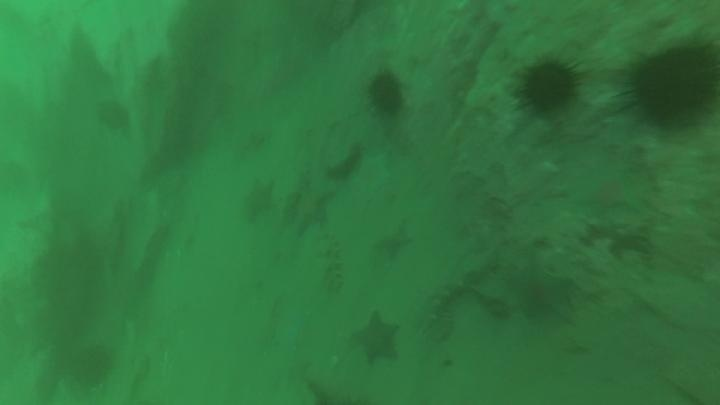echinus: (626, 42, 718, 128), (515, 56, 583, 117), (364, 69, 408, 119), (94, 98, 133, 135)
holothurian: (421, 278, 468, 344), (316, 231, 348, 297)
starfish: (499, 257, 578, 326), (571, 162, 648, 217), (283, 173, 338, 239), (348, 309, 404, 369), (370, 221, 416, 266), (239, 176, 279, 226)
